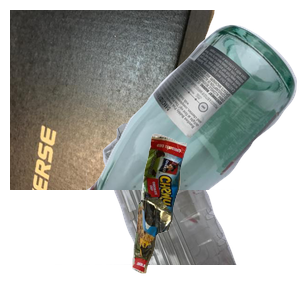cardboard: (10, 10, 217, 190)
glass: (86, 22, 300, 202)
plastic: (55, 120, 284, 300)
trash: (130, 131, 300, 300)
